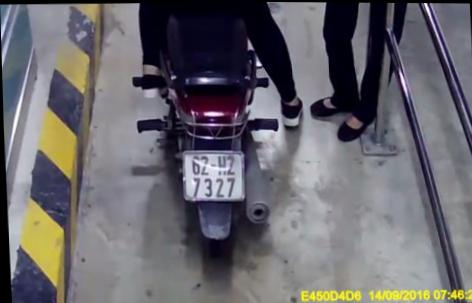LP: (178, 147, 246, 203)
